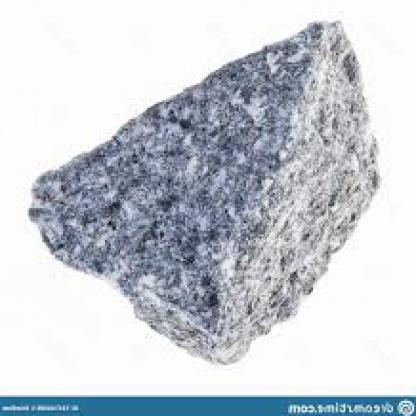Sedimentary_Chalk: (67, 74, 328, 321)
